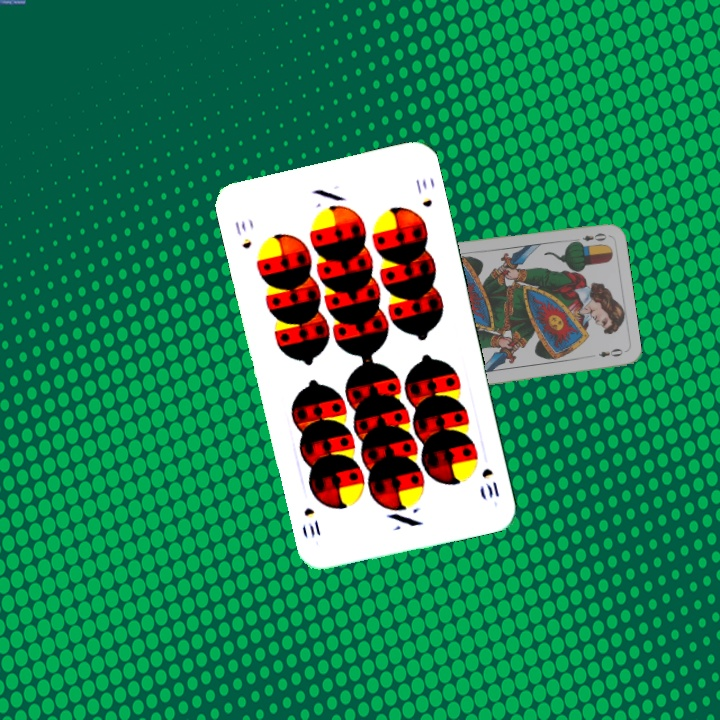EO: (569, 229, 609, 246)
S10: (478, 464, 502, 500), (230, 217, 254, 251)
